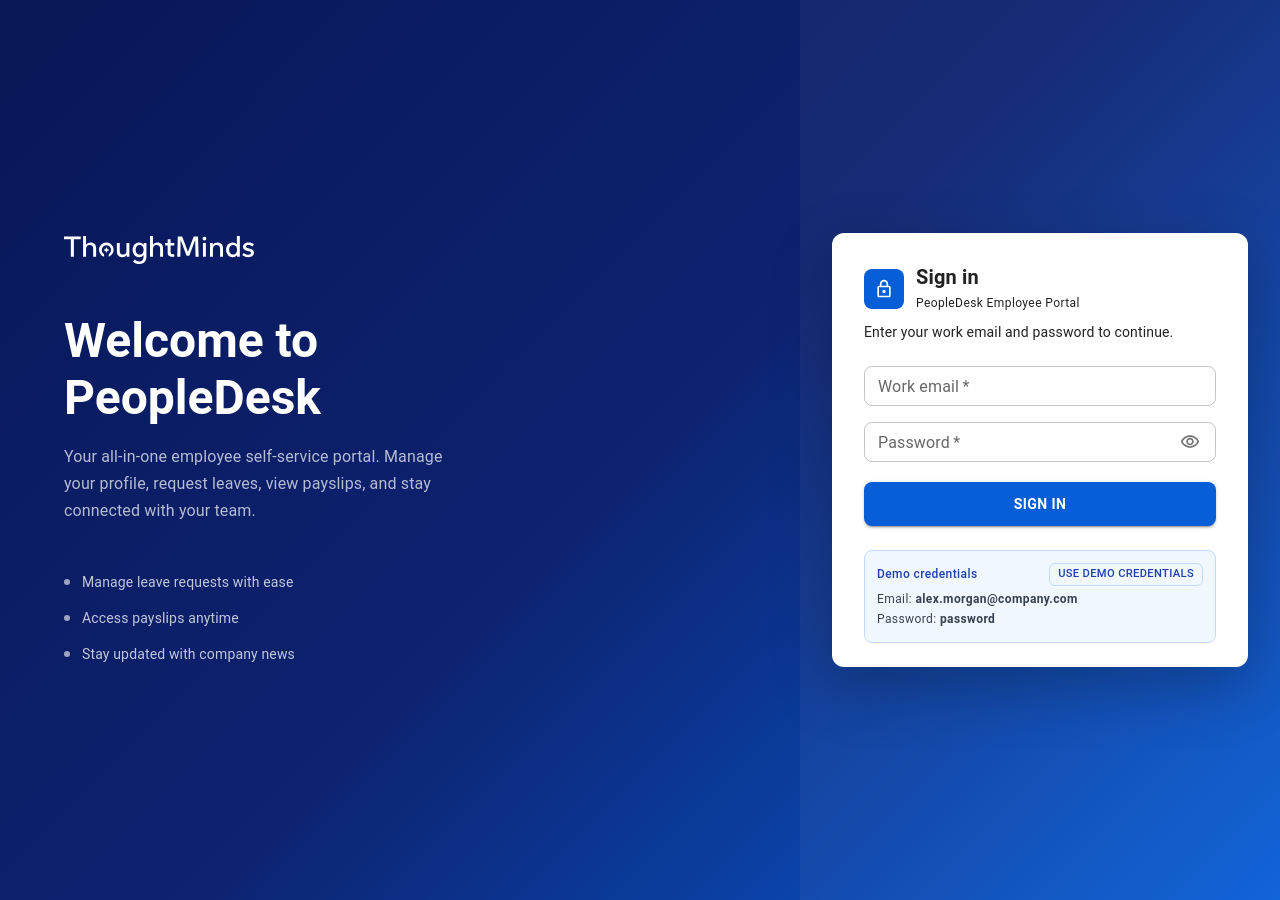
Test: LoginPage — Use demo credentials button › fills email and password fields when button is clicked
The width and height of the screenshot is (1280, 900).
Expected: the field labelled "Work email *" is empty, 864,366 -> 1216,406
Expected: the password field labelled "Password *" is empty, 864,422 -> 1167,462
Click the button "Use demo credentials".
click(1126, 575)  # box 1049,563 -> 1203,586
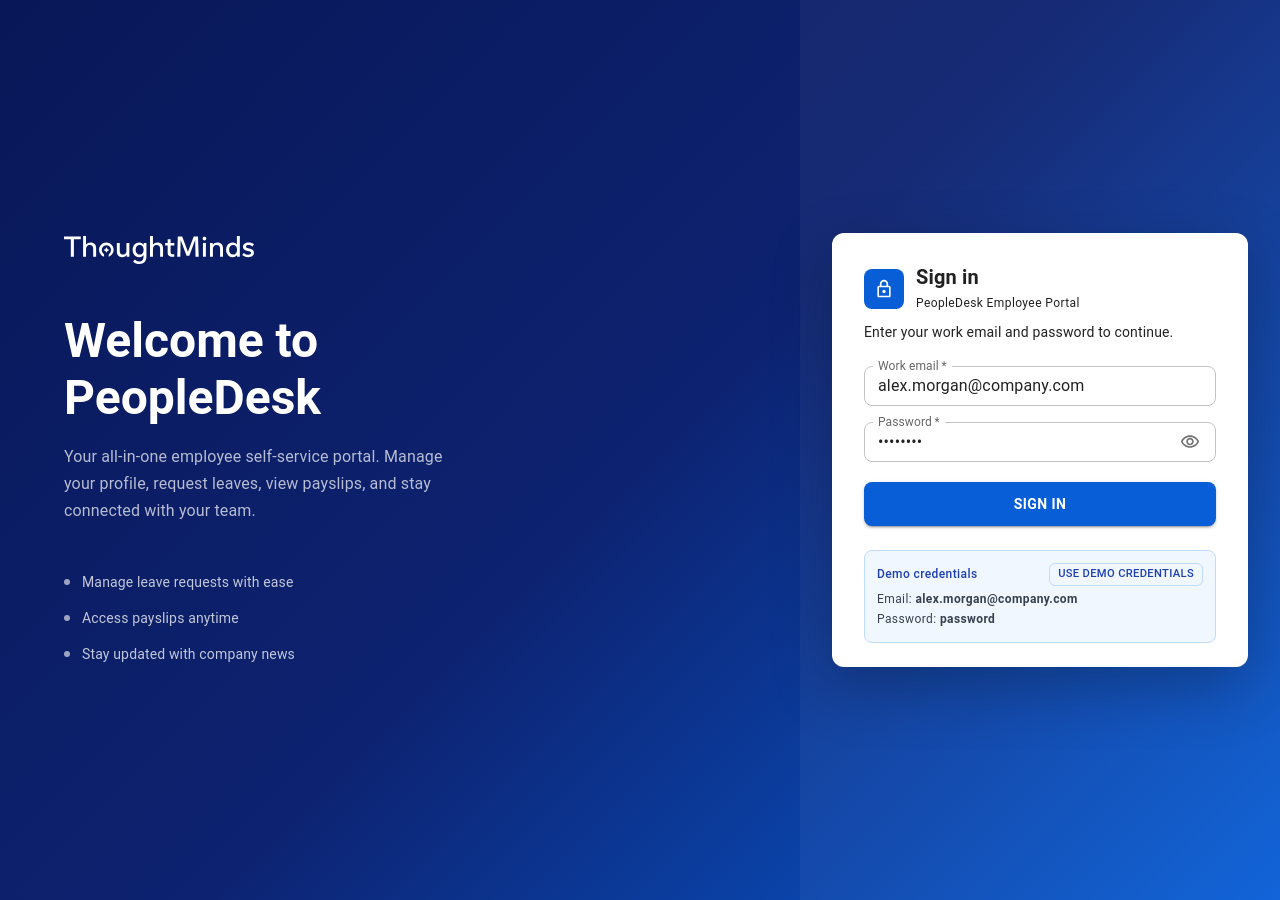
Result: the field labelled "Work email *" holds "alex.morgan@company.com" at 864,366 -> 1216,406
Result: the password field labelled "Password *" holds "password" at 864,422 -> 1167,462
